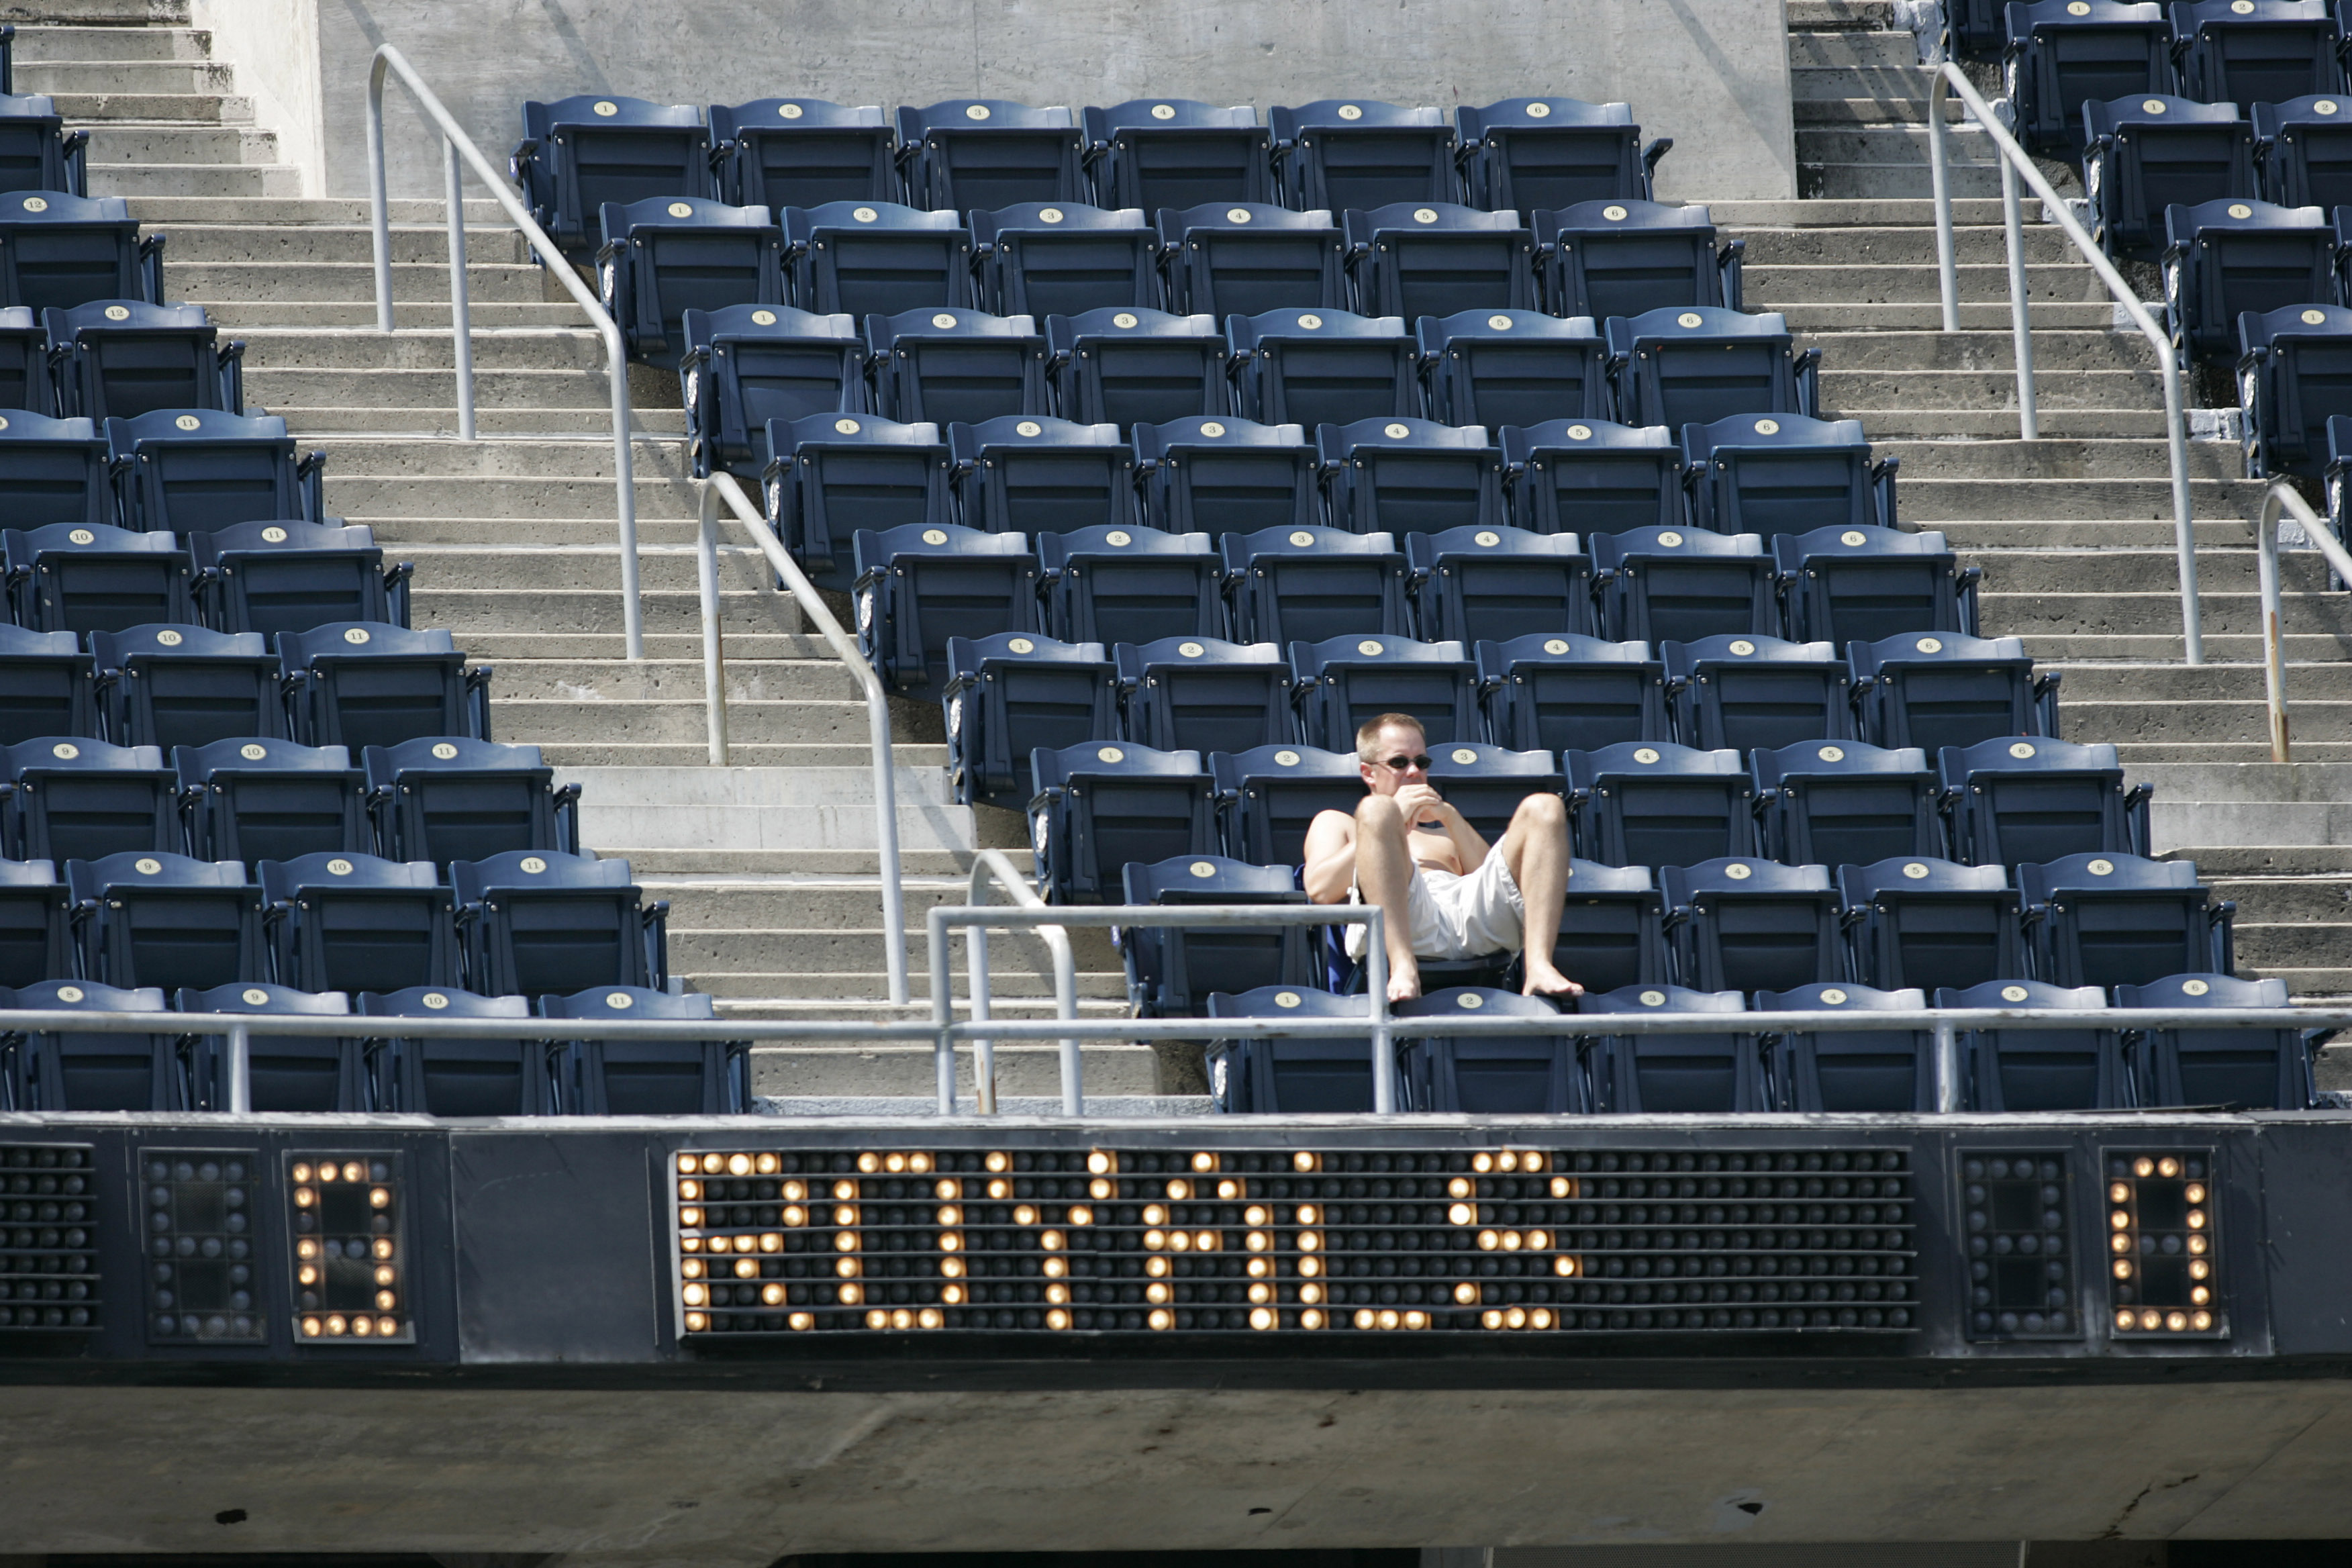Person: (1297, 709, 1583, 999)
